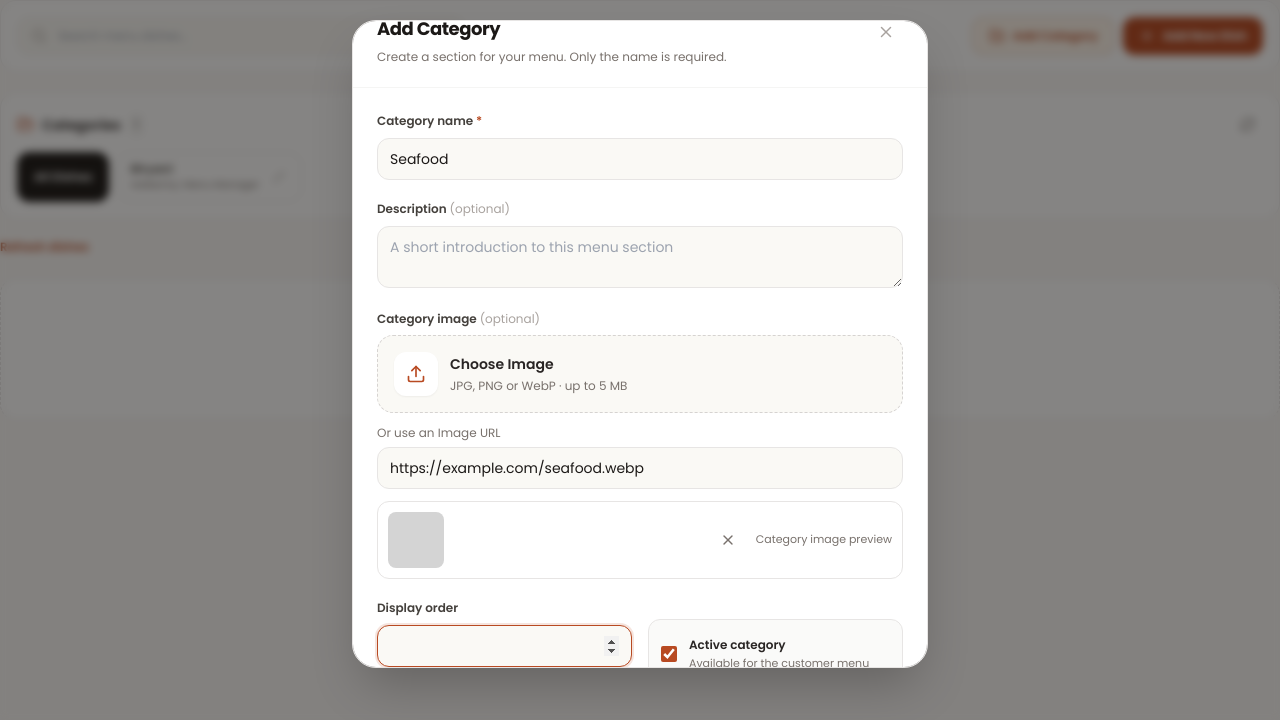
Scenario: menu category creation › saves through the backend and immediately adds the returned category to tabs and dish dropdown
Earlier steps of the test are not shown.
Later steps or results of the test are not shown.
(page scrolled)
Type "3" into the number field labelled "Display order" at (504, 646), box [377,624,632,666]
(page scrolled)
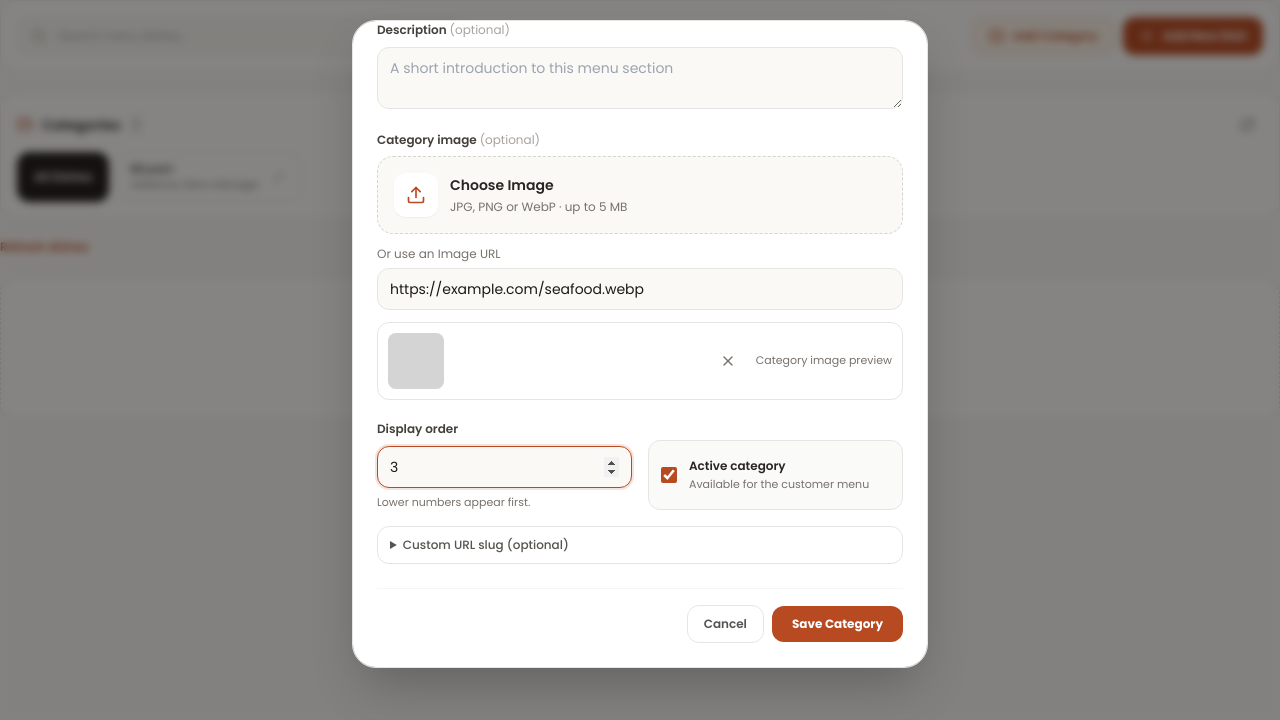
Click the button "Save Category" at (838, 624), box [772,606,903,642]
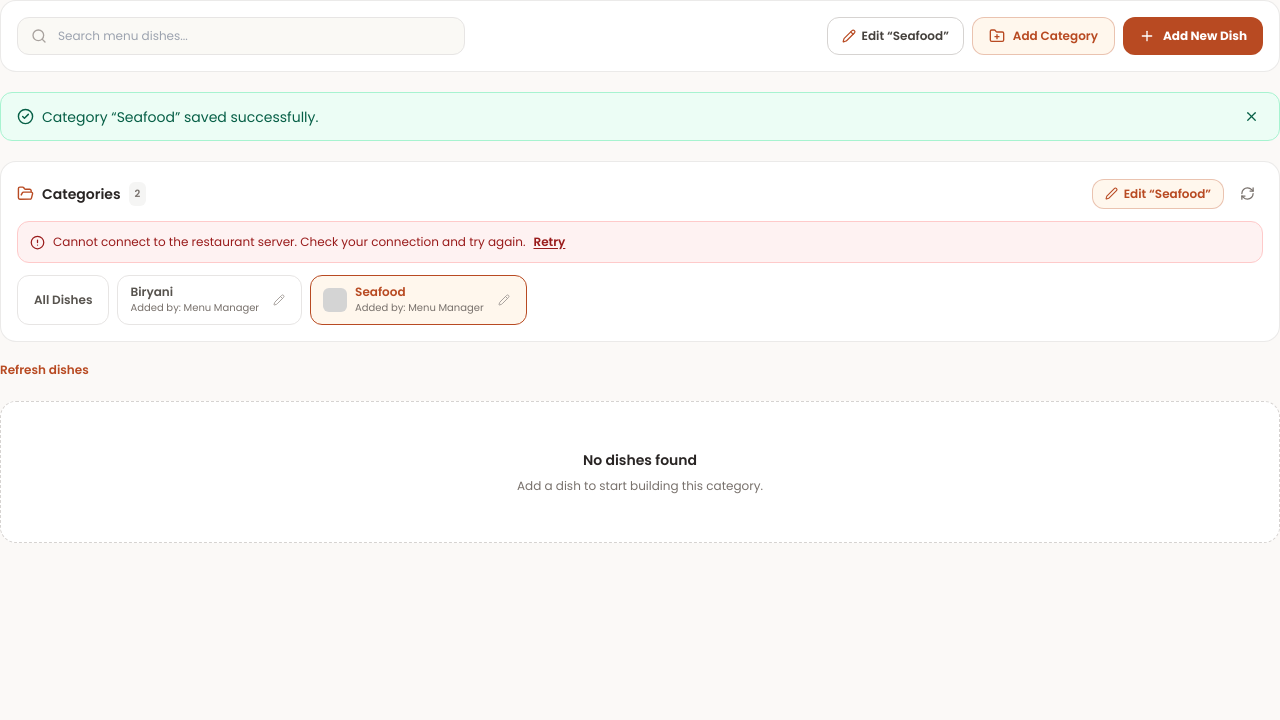
Expected: the text "Category “Seafood” saved successfully." is shown, [17,106,318,126]
Expected: the dialog is gone
Expected: the button "Seafood Added by: Menu Manager" is shown, [323,284,484,316]
Click the button "Add New Dish" at (1193, 36), box [1123,17,1263,55]
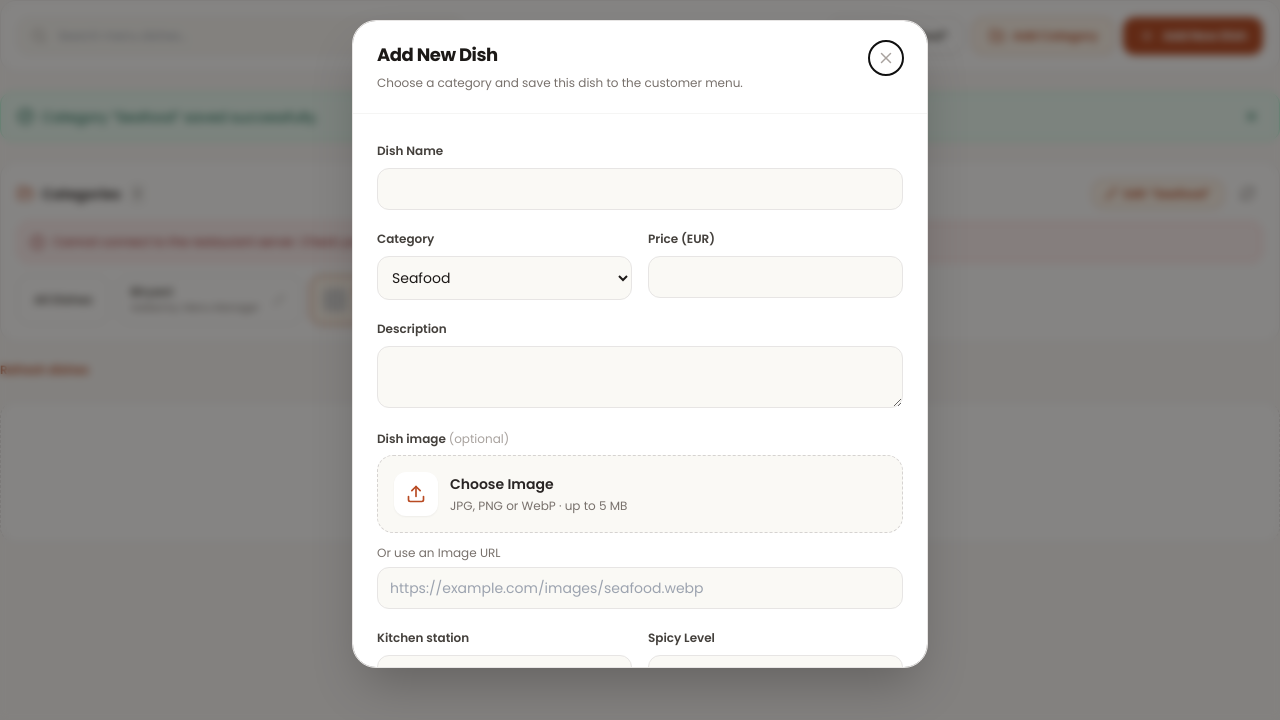
Expected: the dropdown labelled "Category" shows "Seafood", [377,256,632,300]
